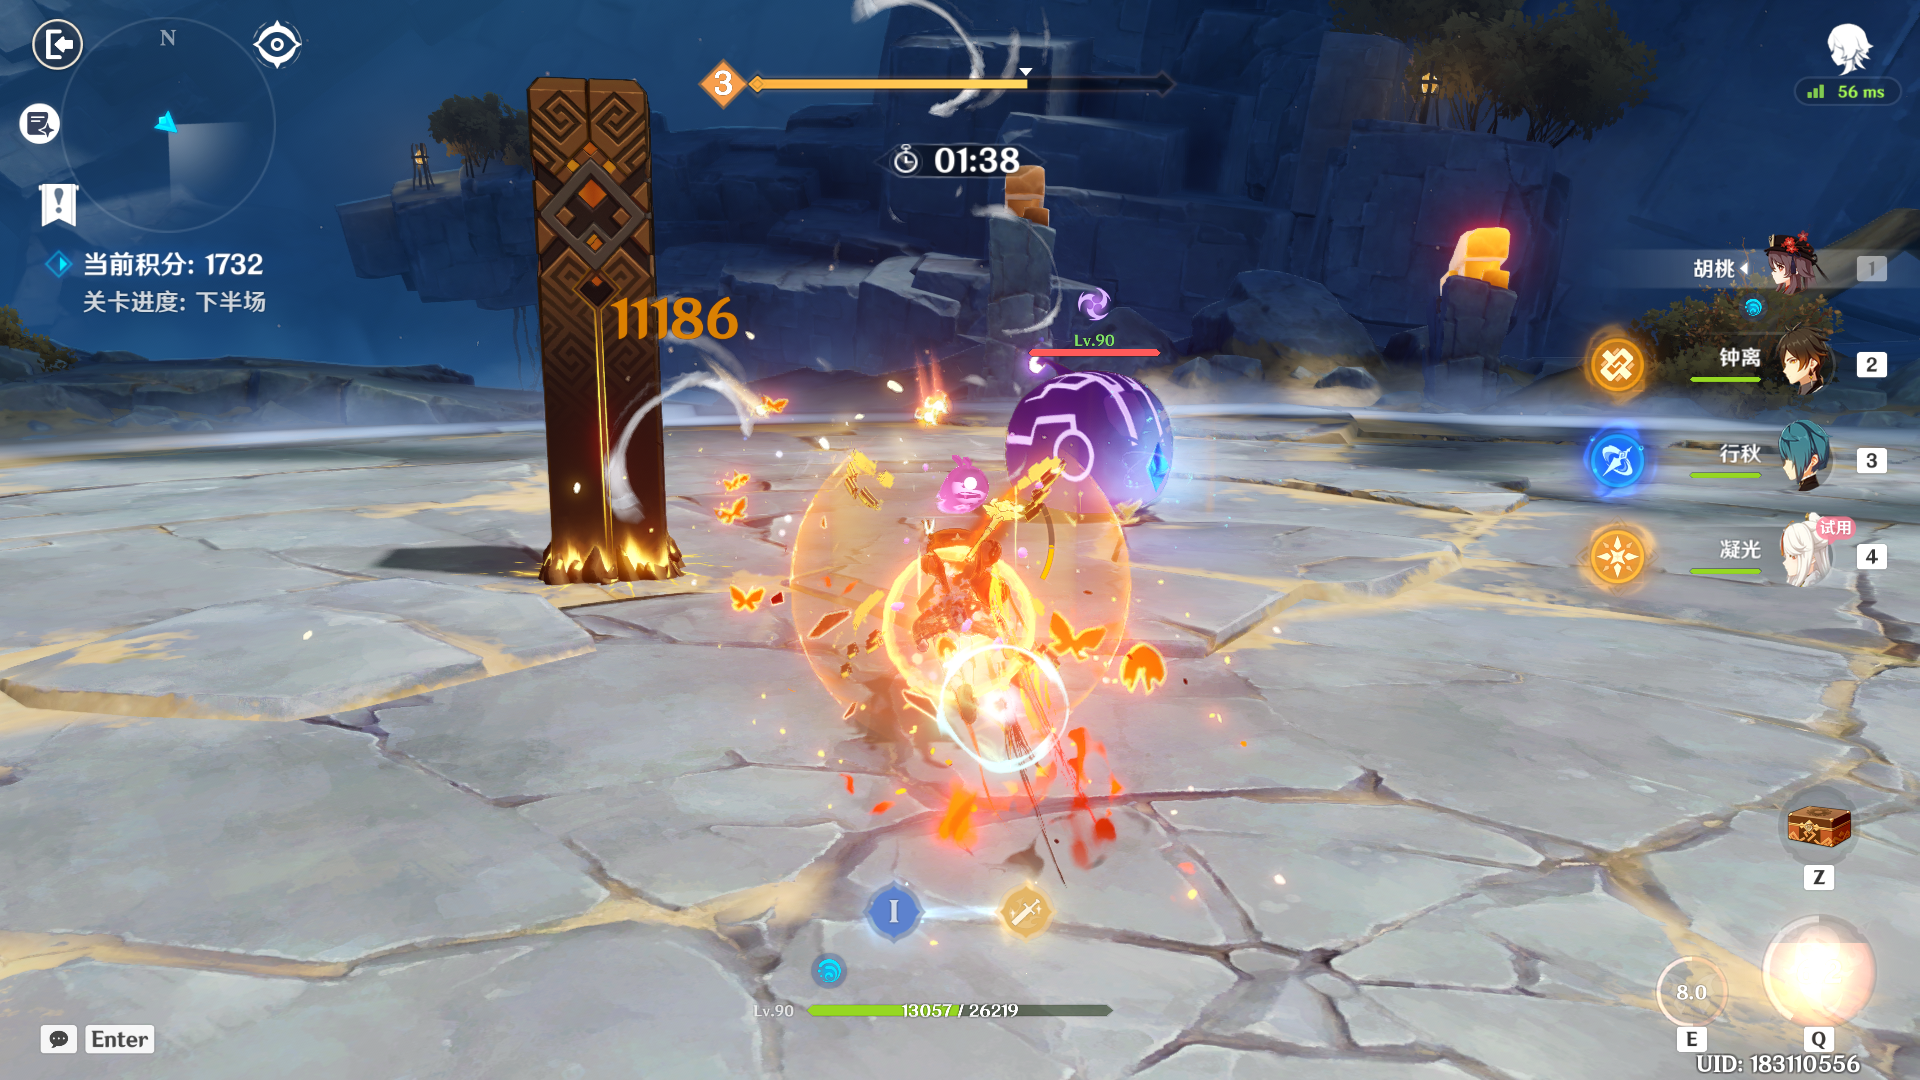character: (847, 460, 1108, 837)
slime: (975, 345, 1218, 524)
